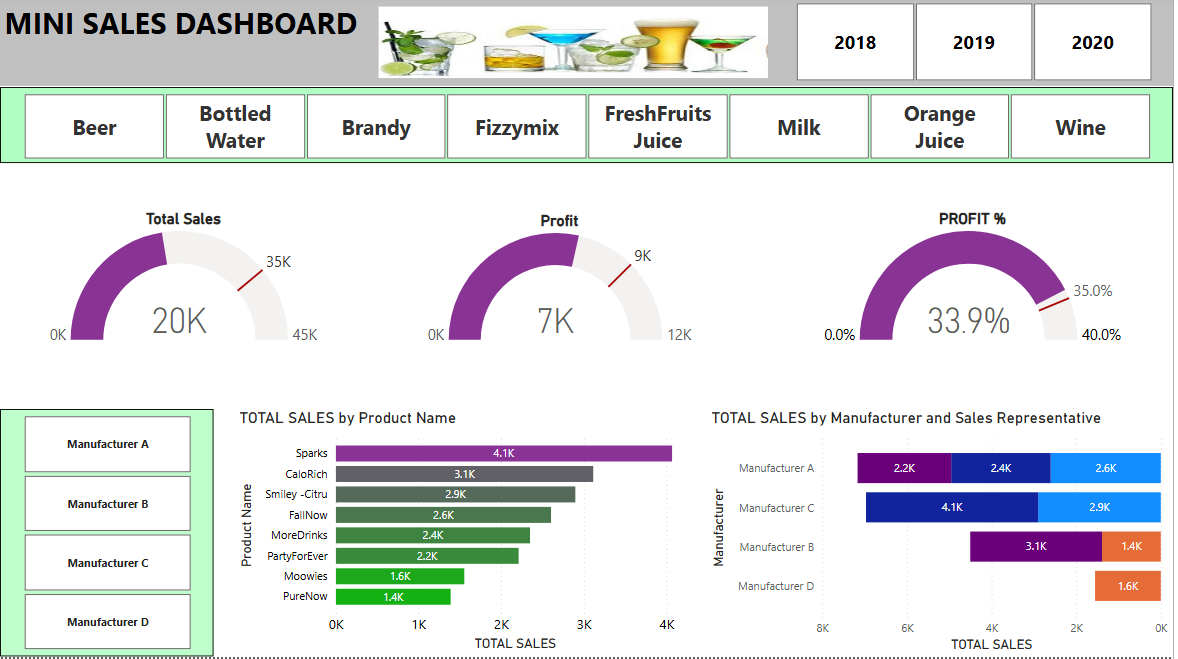

What the dashboard file says about the page in this screenshot:
{"tool":"powerbi","page":{"name":"mini 1","canvas":[1280,720],"ordinal":0},"visuals":[{"type":"textbox","box":[0,0,1280,97.1],"z":0},{"type":"slicer","fields":{"Values":["Sales.Date.Variation.Date Hierarchy.Year"]},"box":[843.2,0,436.8,97.5],"z":1000},{"type":"gauge","title":"Total Sales","fields":{"Y":["Sales.TOTAL SALES"]},"box":[0,231.3,400.5,152.8],"z":3000},{"type":"gauge","title":"Profit","fields":{"Y":["Sales.TOTAL PROFIT"]},"box":[400.5,233.5,420.1,150.6],"z":4000},{"type":"gauge","fields":{"Y":["Sales.PROFIT %"]},"box":[878.4,231.3,365.6,152.8],"z":5000},{"type":"slicer","fields":{"Values":["Product.Manufacturer"]},"box":[0,449.8,233.4,270.2],"z":6000},{"type":"barChart","fields":{"Y":["Sales.TOTAL SALES"],"Category":["Product.Product Name"]},"box":[256,449,516.1,270.2],"z":7000},{"type":"barChart","fields":{"Y":["Sales.TOTAL SALES"],"Category":["Product.Manufacturer"],"Series":["Product.Sales Representative"]},"box":[771.8,448.2,508.2,271.5],"z":8000},{"type":"slicer","fields":{"Values":["Product.Product Key"]},"box":[0,98.1,1280,82.6],"z":8001},{"type":"image","box":[407.7,5.2,434.8,87.7],"z":8002}]}

Visuals, with their boxes in screenshot pixels (x1, y1, x2, y2), scaled from the page's 1280x720 canvas onto the 1178x659 screenshot:
textbox: bbox=[0, 0, 1177, 89]
slicer - Sales.Date.Variation.Date Hierarchy.Year: bbox=[776, 0, 1177, 89]
"Total Sales" gauge: bbox=[0, 212, 369, 352]
"Profit" gauge: bbox=[369, 214, 755, 352]
gauge - Sales.PROFIT %: bbox=[808, 212, 1145, 352]
slicer - Product.Manufacturer: bbox=[0, 412, 215, 658]
barChart - Sales.TOTAL SALES x Product.Product Name: bbox=[236, 411, 711, 658]
barChart - Sales.TOTAL SALES x Product.Manufacturer: bbox=[710, 410, 1177, 658]
slicer - Product.Product Key: bbox=[0, 90, 1177, 165]
image: bbox=[375, 5, 775, 85]
